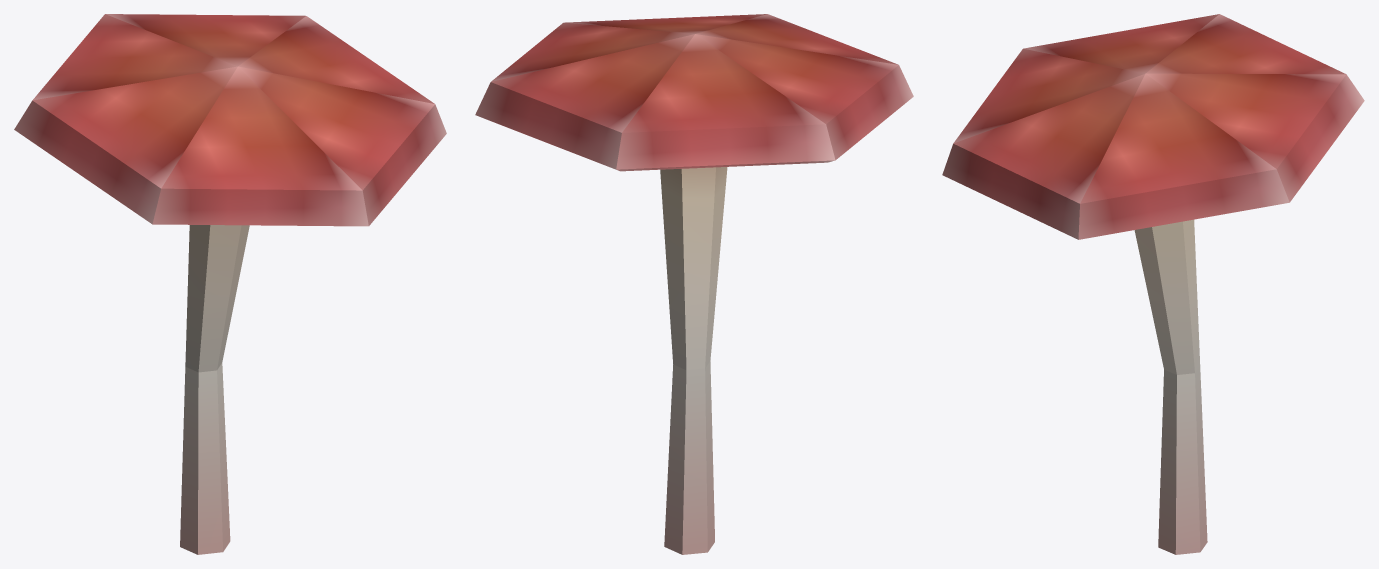
File: Colony_Mushroom_Art.glb
3 renders of one model, left to right at view 1: azimuth 30°, elevation 25°; view 2: azimuth 150°, elevation 25°; view 3: azimuth 270°, elevation 25°, orthographic. The views are drawn at different scales.
Parts seen in each view (by area): view 1: Colony_Mushroom_Art; view 2: Colony_Mushroom_Art; view 3: Colony_Mushroom_Art.
Part boxes in pixels (x1,y1,x2,y2): Colony_Mushroom_Art: [14, 14, 446, 554]; Colony_Mushroom_Art: [475, 14, 913, 554]; Colony_Mushroom_Art: [942, 14, 1364, 554].
Bounding box in the file's own units: 0.7122 × 0.9335 × 0.748.
1 material, 1 textured.
